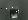person: (11, 7, 19, 18)
